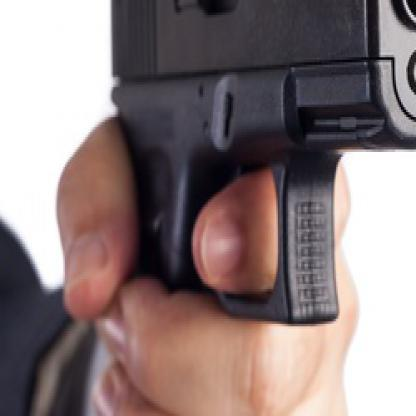gun: (108, 0, 414, 414)
